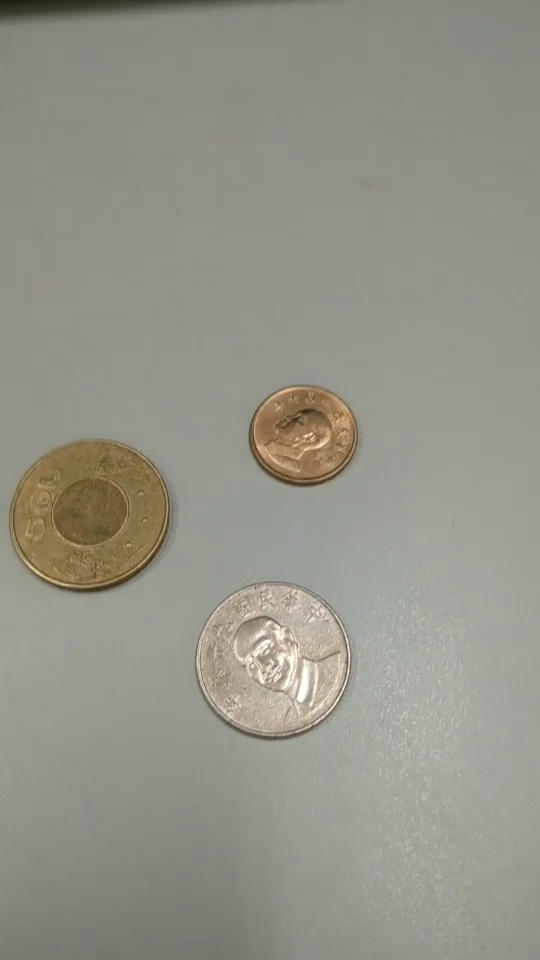NT$ 1: (246, 385, 358, 489)
NT$ 10: (192, 584, 352, 741)
NT$ 50: (8, 440, 170, 593)
